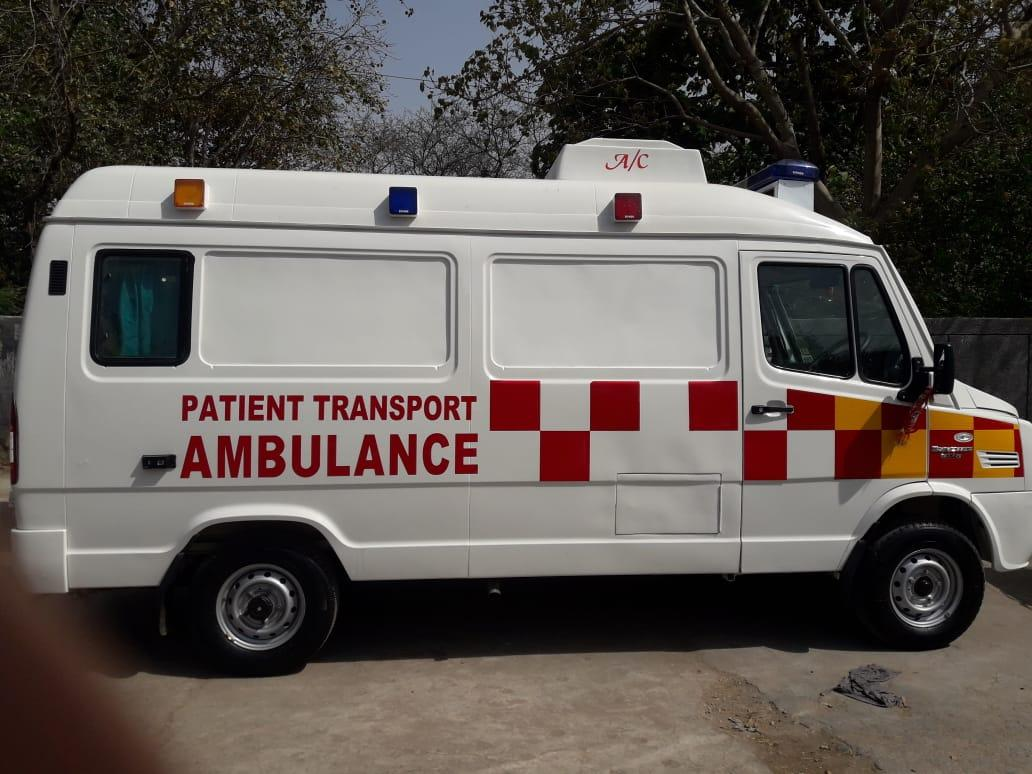-: (1, 92, 1032, 729)
